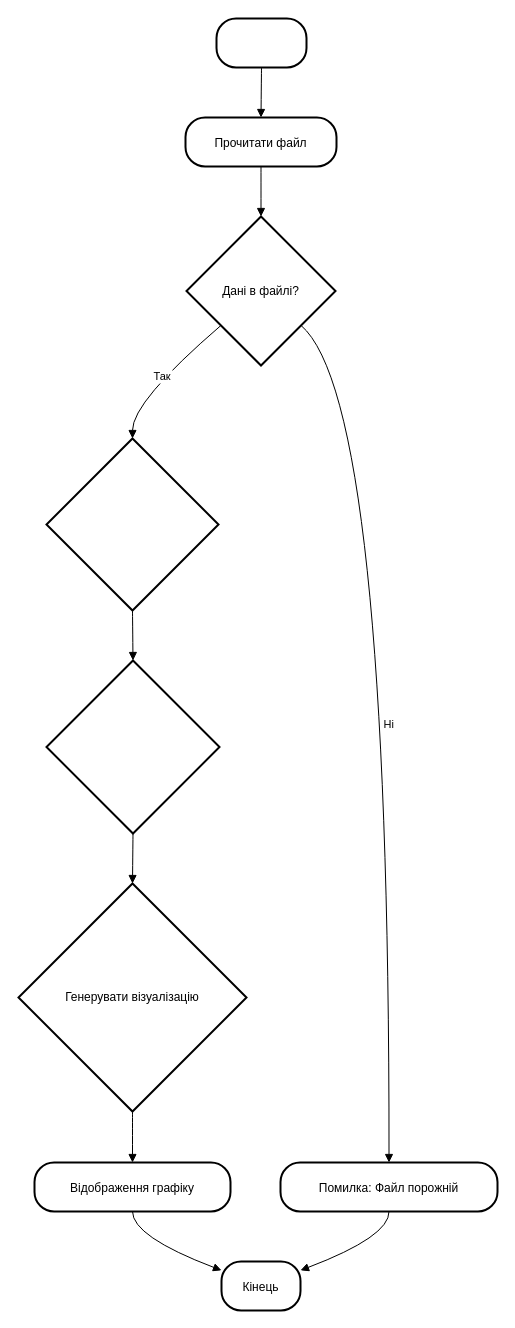
Some shapes in this 515 by 1328 pixel diagram are drawn without their labels. Here are the shapes that lost their labels. From the top down, the box of each, then its label:
(215, 17, 307, 68): Початок
(45, 437, 219, 611): Підготувати дані
(45, 659, 220, 834): Аналізувати дані
